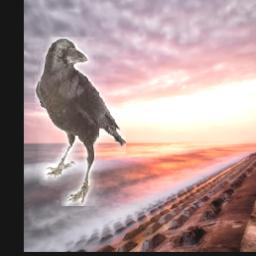Crow: (35, 37, 126, 206)
